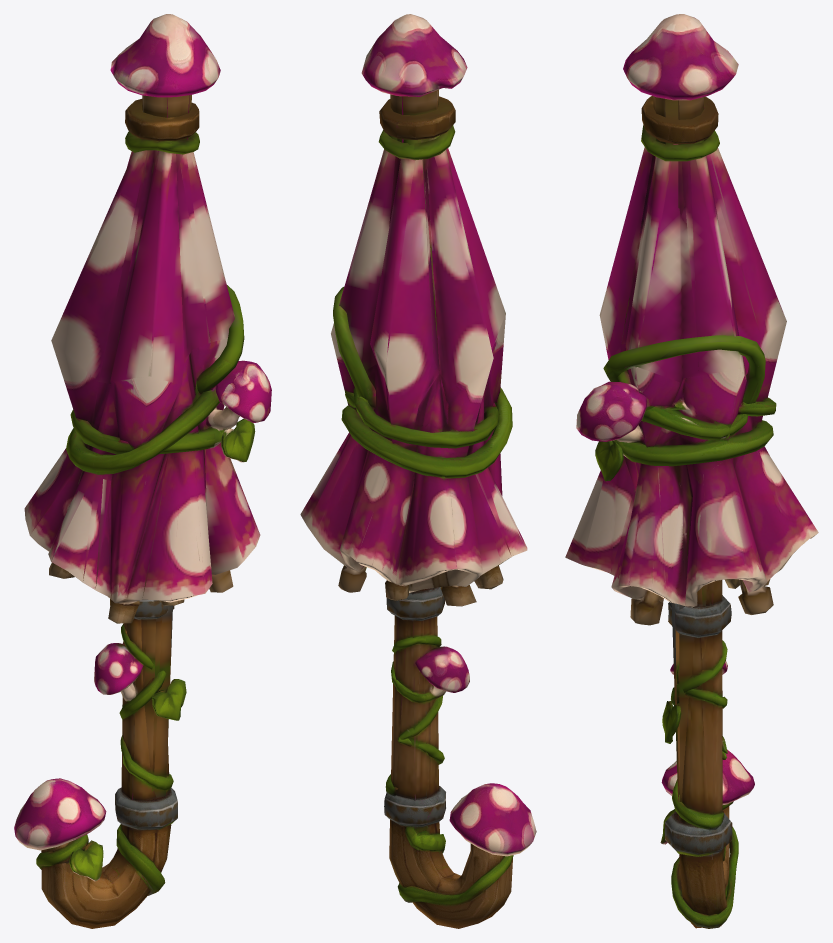
The model's file is Meshy_AI_Mushroom_Parasol_1018200051_texture.fbx.
3 renders of one model, left to right at view 1: azimuth 30°, elevation 25°; view 2: azimuth 150°, elevation 25°; view 3: azimuth 270°, elevation 25°, orthographic. The views are drawn at different scales.
Visible parts, largest first — view 1: Mesh_0; view 2: Mesh_0; view 3: Mesh_0.
Part boxes in pixels (x1,y1,x2,y2): Mesh_0: (14,14,271,928); Mesh_0: (300,14,536,928); Mesh_0: (565,14,818,928).
Size of the model in its own units: 3 by 12 by 2.95.
Materials: 1 (1 with a texture image).
